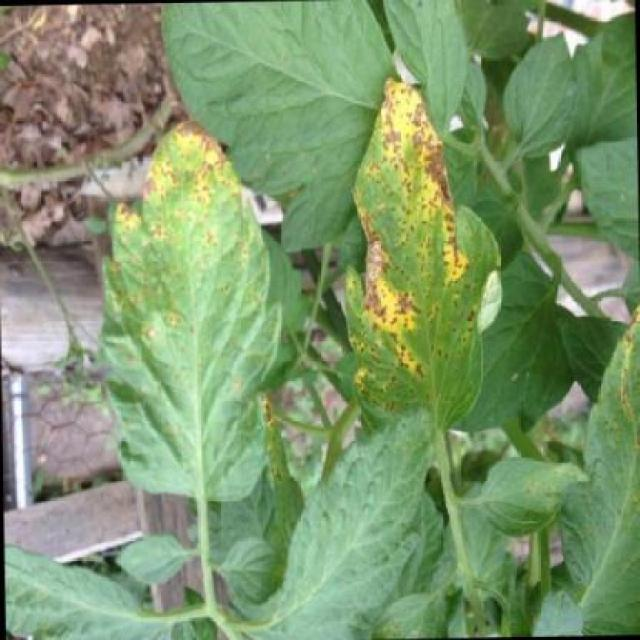Septoria leaf spot: (91, 105, 294, 503), (340, 69, 506, 443)
